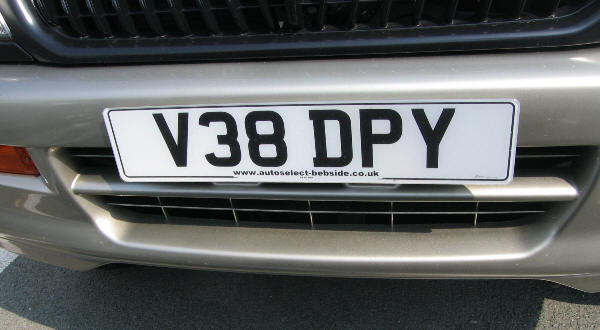license_plate: (101, 99, 520, 183)
